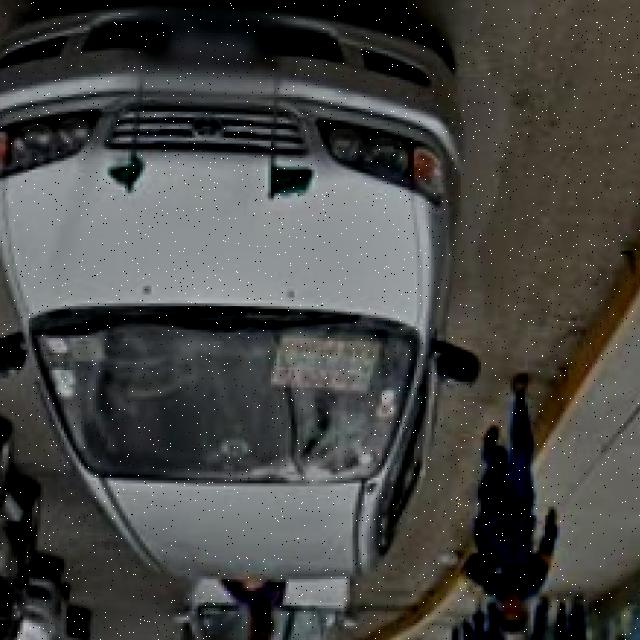car: (1, 0, 458, 568)
